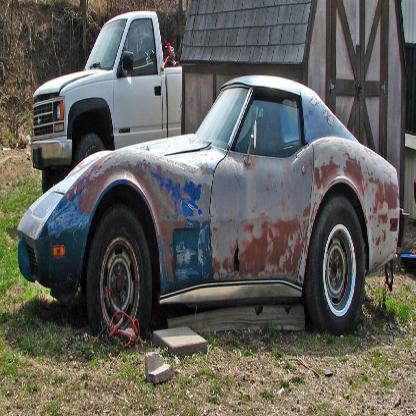Car: (16, 75, 410, 348)
Truck: (31, 12, 181, 194)
